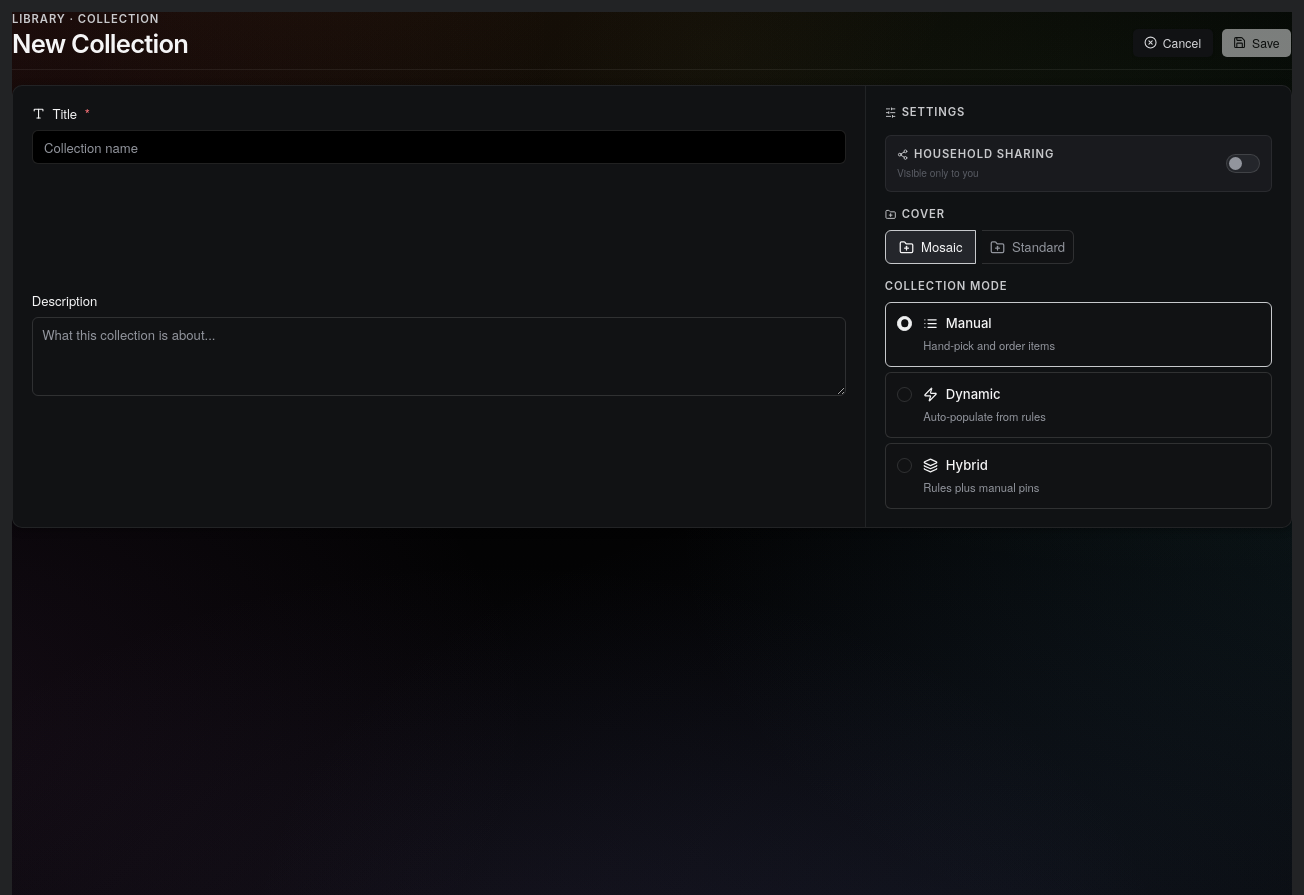
Test case: collection rule preview › waits for complete conditions instead of showing an empty library toolbar
The width and height of the screenshot is (1304, 895).
Type "Draft" into the field labelled "Title *" at (439, 147), box [32, 130, 846, 164]
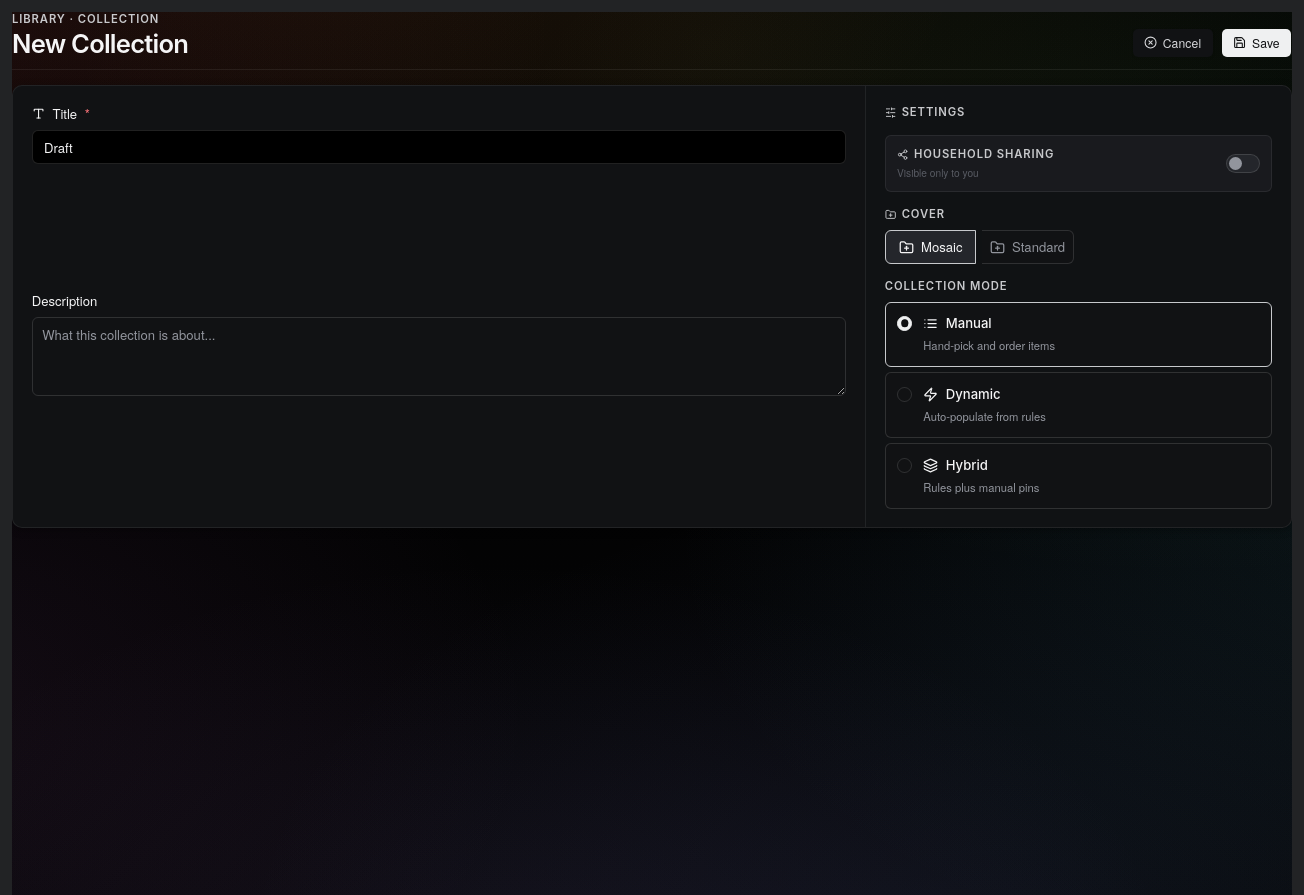
Click the radio button named "Dynamic" at (904, 394), box [897, 387, 912, 402]
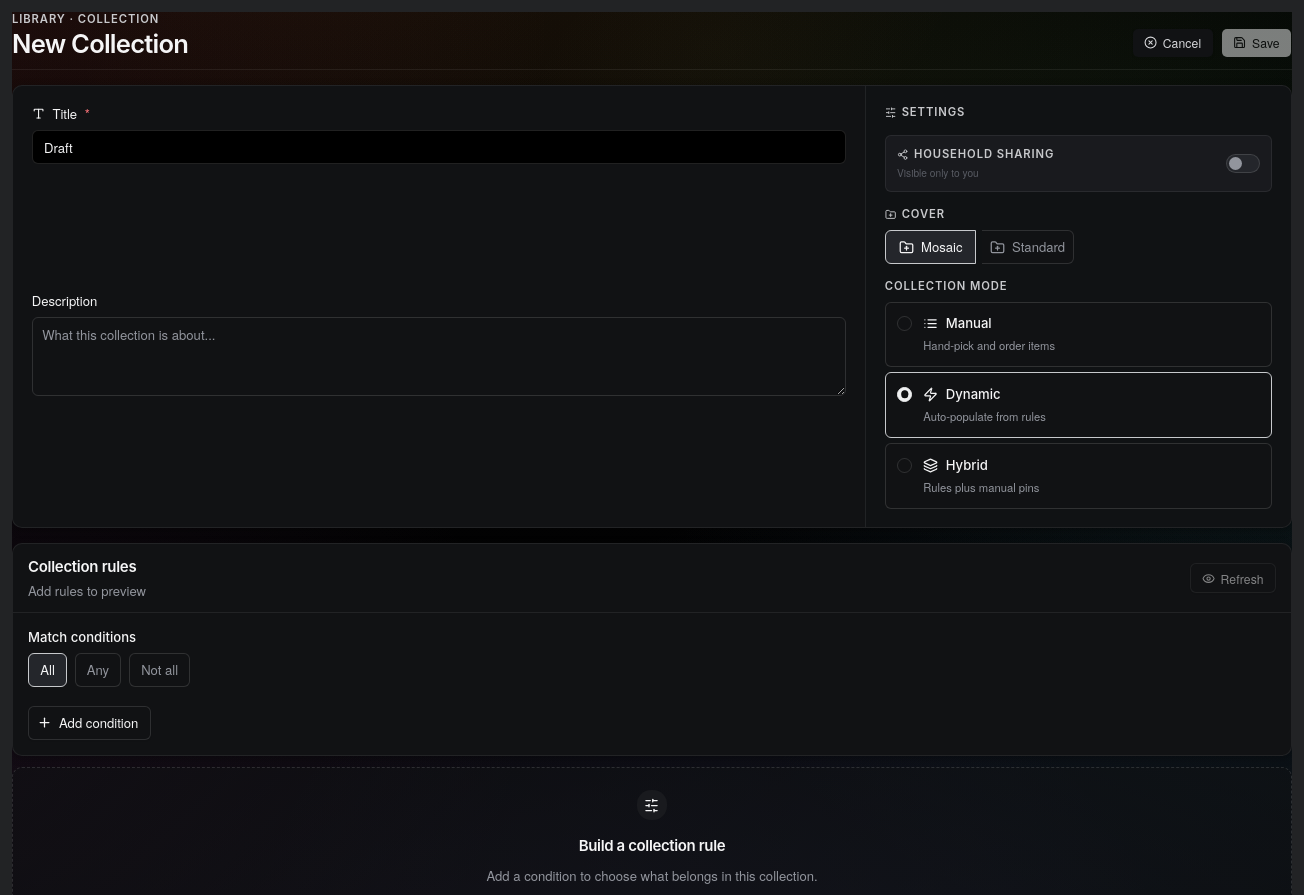
Click the button "Add condition" at (89, 723), box [28, 706, 151, 740]
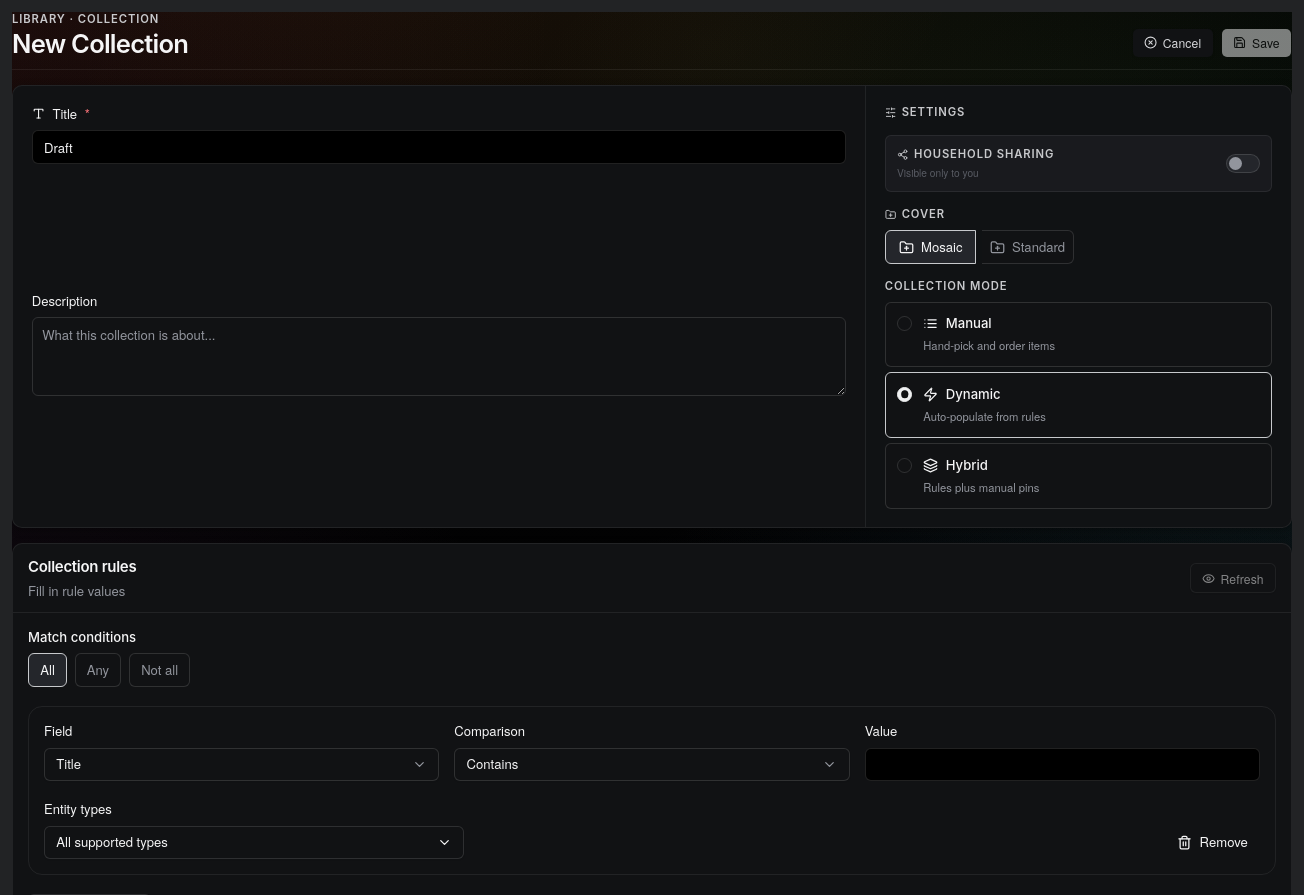
Expected: the button "Save" is disabled, [1221, 28, 1292, 58]
Type "cats" into the field named "Text value" at (1062, 764), box [865, 748, 1260, 781]
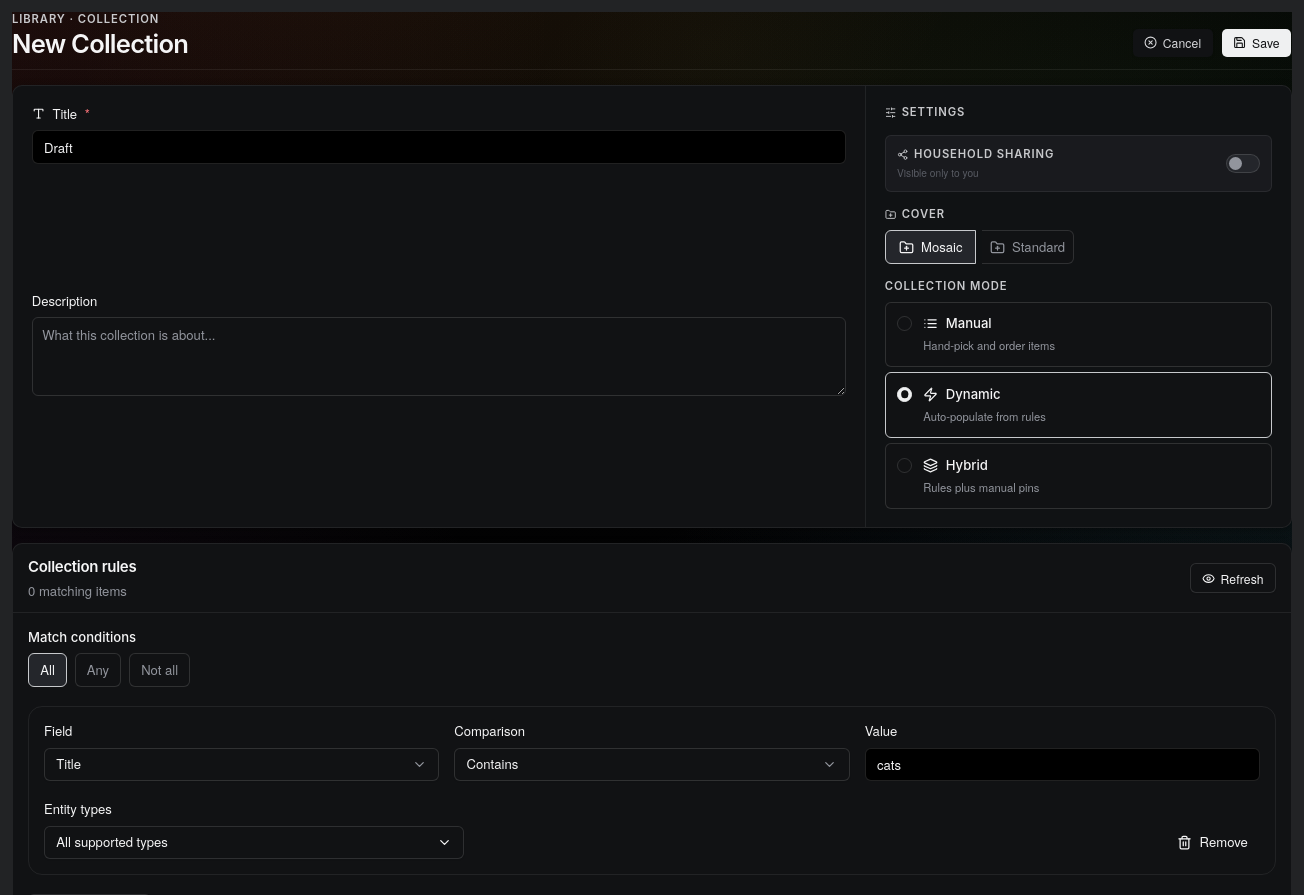
Expected: the button "Save" is enabled, [1221, 28, 1292, 58]
